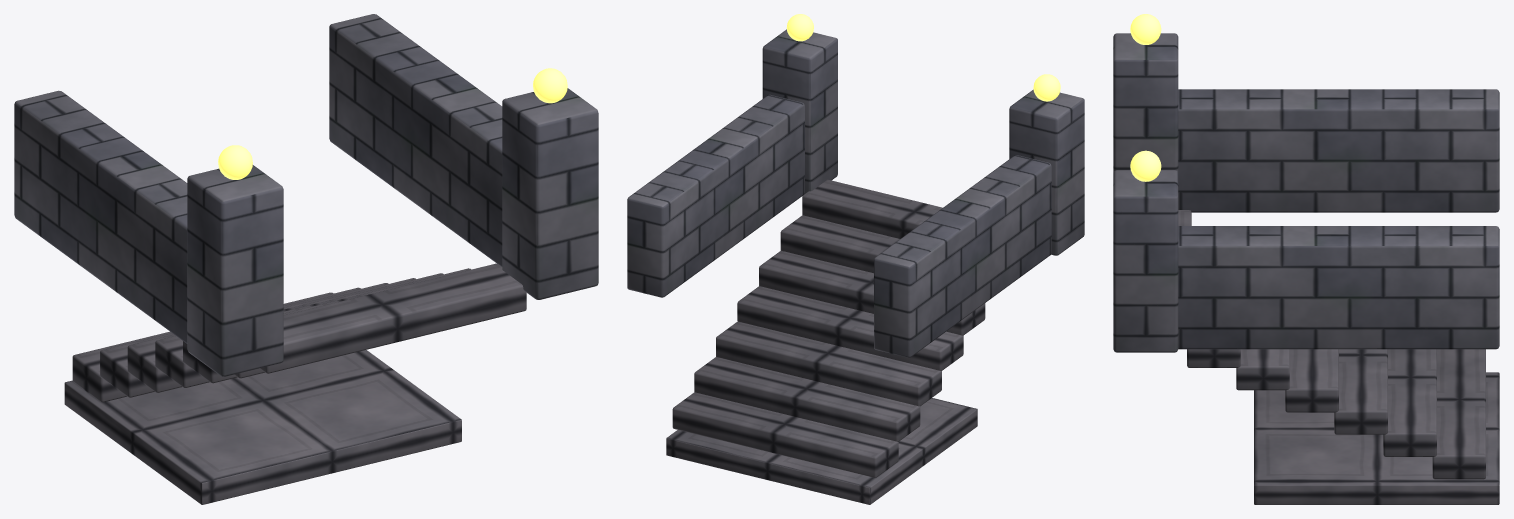
The model's file is staircase_down.glb.
3 views of the same model, side by side, from view 1: azimuth 30°, elevation 25°; view 2: azimuth 150°, elevation 25°; view 3: azimuth 270°, elevation 25° (orthographic). The views are drawn at different scales.
Visible parts, largest first — view 1: DescentVoid, Balustrade.001, Balustrade, NewelPost, NewelPost.001, Step, Step.004, Step.003, Step.005, Step.006, Step.002, NewelFlame.001 (+2 smaller); view 2: Balustrade.001, Balustrade, DescentVoid, Step.006, Step.005, Step.004, NewelPost, NewelPost.001, Step.003, Step.002, Step, Step.001 (+2 smaller); view 3: Balustrade.001, Balustrade, DescentVoid, NewelPost.001, NewelPost, Step.006, Step.005, Step.004, Step.003, Step.002, Step.001, NewelFlame.001 (+1 smaller).
Part boxes in pixels (x1=…): DescentVoid: x1=64, y1=350, x2=461, y2=504; Balustrade.001: x1=329, y1=14, x2=502, y2=266; Balustrade: x1=14, y1=90, x2=187, y2=343; NewelPost: x1=187, y1=165, x2=283, y2=376; NewelPost.001: x1=502, y1=88, x2=598, y2=299; Step: x1=260, y1=263, x2=526, y2=373; Step.004: x1=127, y1=283, x2=388, y2=392; Step.003: x1=155, y1=278, x2=415, y2=387; Step.005: x1=100, y1=287, x2=360, y2=397; Step.006: x1=72, y1=292, x2=333, y2=402; Step.002: x1=183, y1=273, x2=443, y2=383; NewelFlame.001: x1=533, y1=68, x2=567, y2=103; Balustrade.001: x1=627, y1=94, x2=804, y2=297; Balustrade: x1=874, y1=155, x2=1051, y2=357; DescentVoid: x1=666, y1=398, x2=977, y2=504; Step.006: x1=672, y1=392, x2=898, y2=477; Step.005: x1=694, y1=357, x2=920, y2=441; Step.004: x1=716, y1=321, x2=941, y2=406; NewelPost: x1=1009, y1=89, x2=1084, y2=255; NewelPost.001: x1=762, y1=29, x2=837, y2=193; Step.003: x1=737, y1=286, x2=963, y2=370; Step.002: x1=759, y1=250, x2=985, y2=335; Step: x1=802, y1=179, x2=942, y2=238; Step.001: x1=780, y1=215, x2=899, y2=273; Balustrade.001: x1=1178, y1=226, x2=1499, y2=349; Balustrade: x1=1178, y1=89, x2=1499, y2=212; DescentVoid: x1=1254, y1=372, x2=1499, y2=504; NewelPost.001: x1=1113, y1=170, x2=1178, y2=352; NewelPost: x1=1113, y1=33, x2=1178, y2=172; Step.006: x1=1432, y1=349, x2=1485, y2=479; Step.005: x1=1383, y1=349, x2=1436, y2=456; Step.004: x1=1334, y1=349, x2=1387, y2=434; Step.003: x1=1285, y1=349, x2=1338, y2=412; Step.002: x1=1236, y1=349, x2=1289, y2=390; Step.001: x1=1187, y1=349, x2=1240, y2=367; NewelFlame.001: x1=1130, y1=150, x2=1161, y2=181.
Size of the model in its own units: 3.48 by 3.61 by 3.46.
4 materials, 3 textured.
